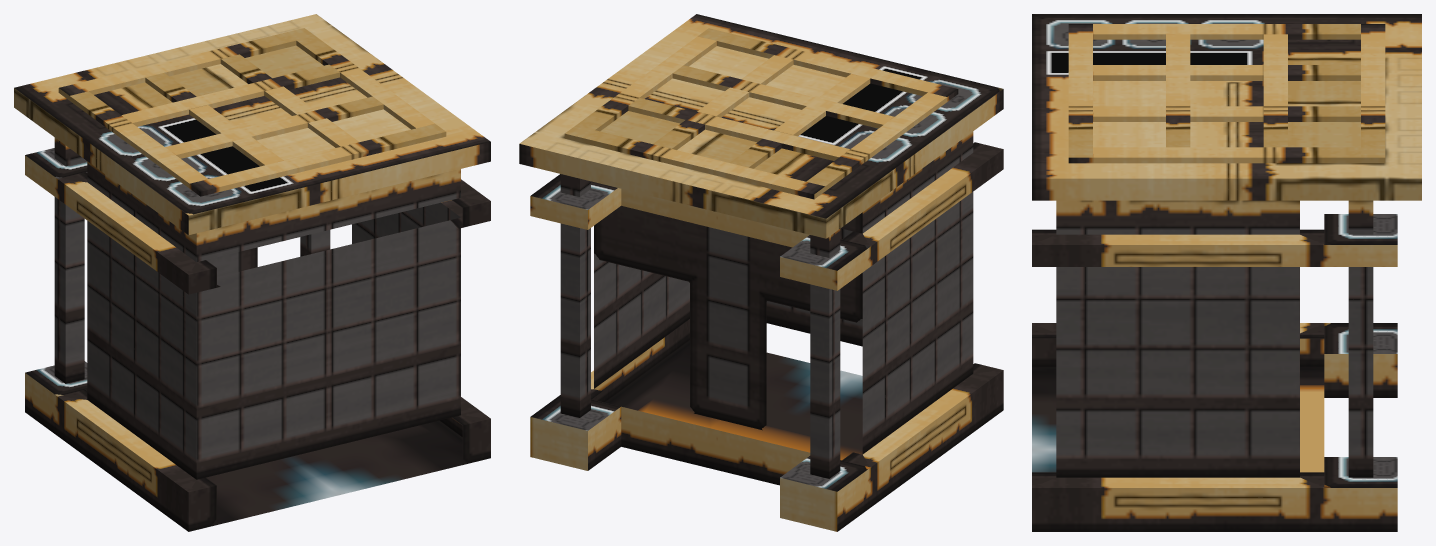
Rendered from station_workbench_inventory.obj.
The picture shows the model from 3 angles, left to right: view 1: azimuth 30°, elevation 25°; view 2: azimuth 150°, elevation 25°; view 3: azimuth 270°, elevation 25°; orthographic projection. The views are drawn at different scales.
Visible parts, largest first — view 1: DESK_SINGLE_MAIN.006, WORKBENCH_MAIN.005; view 2: DESK_SINGLE_MAIN.006, WORKBENCH_MAIN.005; view 3: DESK_SINGLE_MAIN.006, WORKBENCH_MAIN.005.
Boxes of the visible parts, x1=… form: DESK_SINGLE_MAIN.006: x1=14, y1=14, x2=490, y2=531; WORKBENCH_MAIN.005: x1=58, y1=28, x2=446, y2=196; DESK_SINGLE_MAIN.006: x1=519, y1=14, x2=1003, y2=531; WORKBENCH_MAIN.005: x1=564, y1=28, x2=958, y2=199; DESK_SINGLE_MAIN.006: x1=1032, y1=14, x2=1421, y2=531; WORKBENCH_MAIN.005: x1=1068, y1=24, x2=1385, y2=163.
Size of the model in its own units: 1 by 1.02 by 1.
